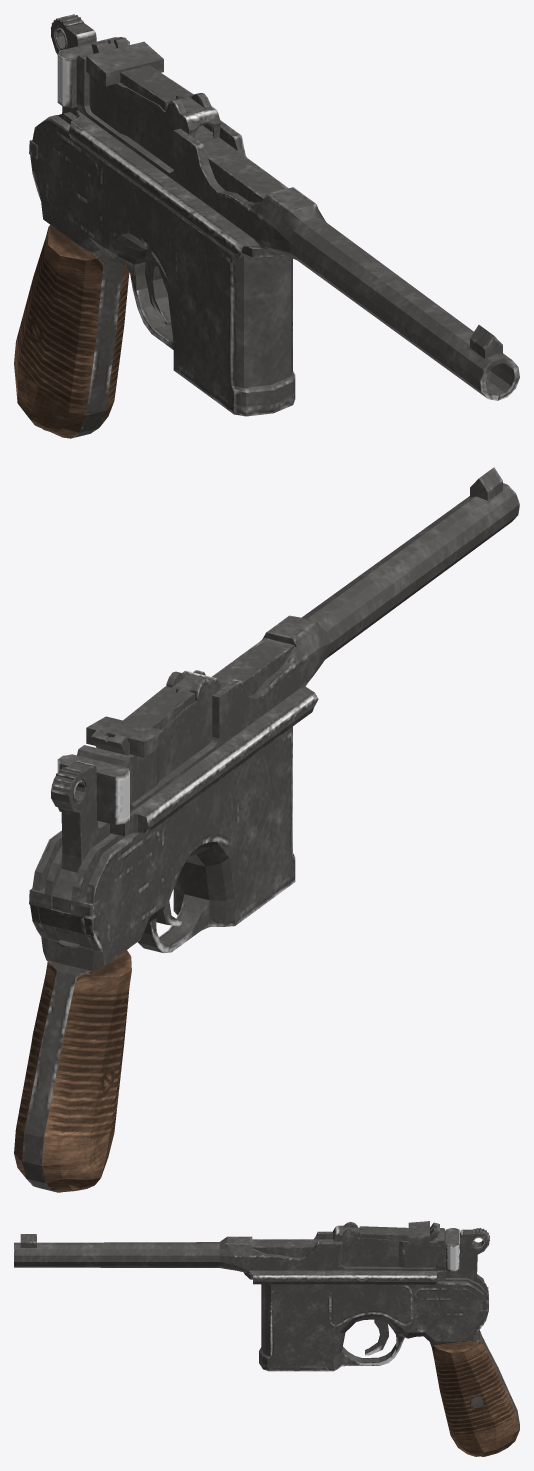
The model's file is 毛瑟手枪.FBX.
The picture shows the model from 3 angles, top to bottom: view 1: azimuth 30°, elevation 25°; view 2: azimuth 150°, elevation 25°; view 3: azimuth 270°, elevation 25°; orthographic projection. The views are drawn at different scales.
Parts seen in each view (by area): view 1: 毛瑟手枪; view 2: 毛瑟手枪; view 3: 毛瑟手枪.
Part boxes in pixels (<box>): 毛瑟手枪: <box>14,14,519,438</box>; 毛瑟手枪: <box>14,467,519,1192</box>; 毛瑟手枪: <box>14,1221,519,1456</box>.
Size of the model in its own units: 0.0279 by 0.1408 by 0.2828.
